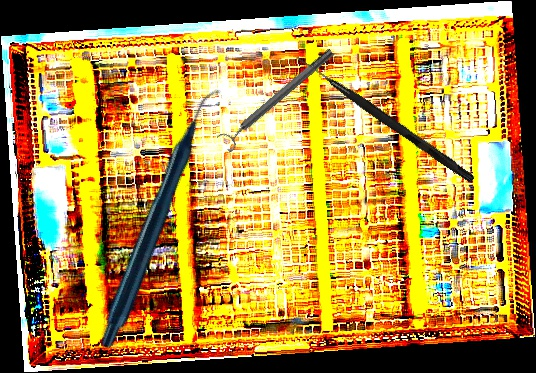Fixation Ring: (215, 43, 340, 154)
Handpiece: (18, 86, 307, 351)
Hook Surgical: (292, 53, 477, 184)
